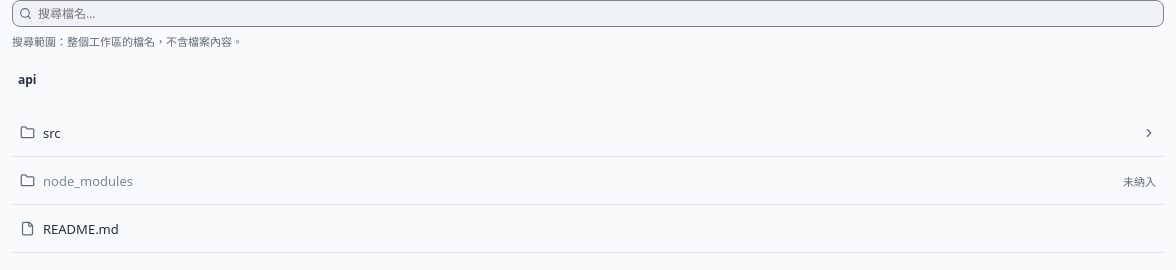
Test case: FileBrowser — 逐層瀏覽 › 換 session 時回到根目錄
Click the button with class "entry" showing "src" at (28, 132), box x1=12 y1=109 x2=1164 y2=157
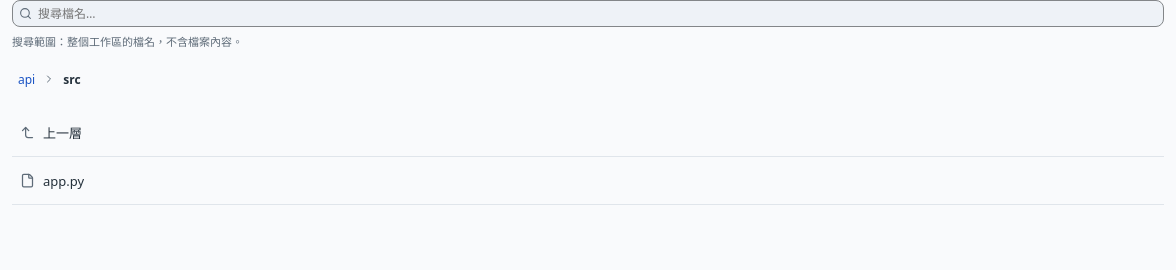
Now the number of buttons with class "crumb" is 2, box x1=12 y1=57 x2=41 y2=101; x1=57 y1=57 x2=86 y2=101
